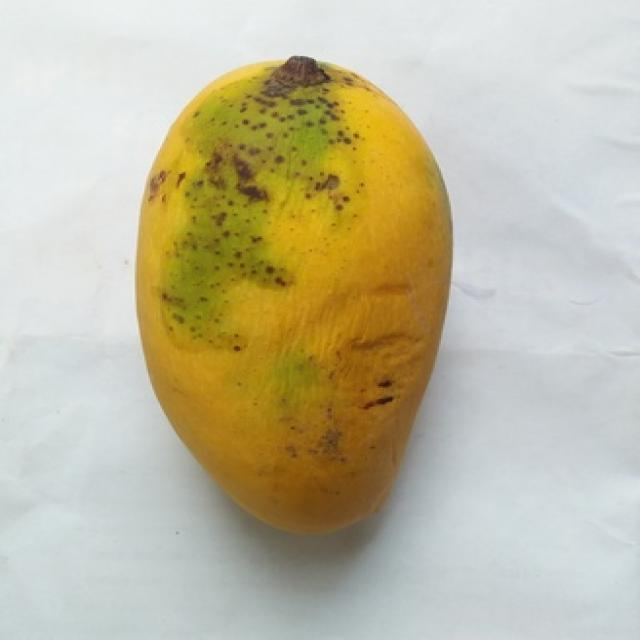Mango: (140, 56, 451, 531)
